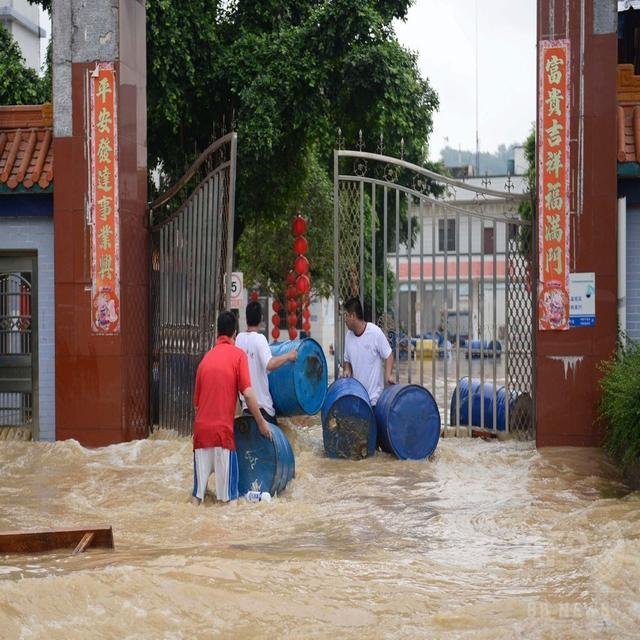Person-RiskLevel2: (186, 307, 262, 518), (238, 292, 298, 451), (334, 297, 405, 422)
